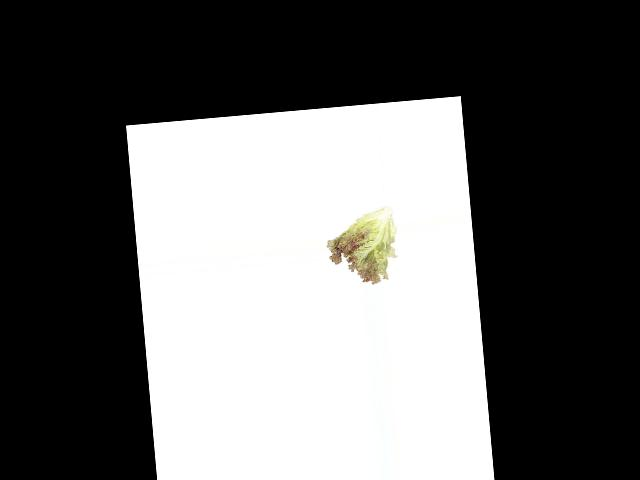lettuce: (325, 206, 399, 288)
